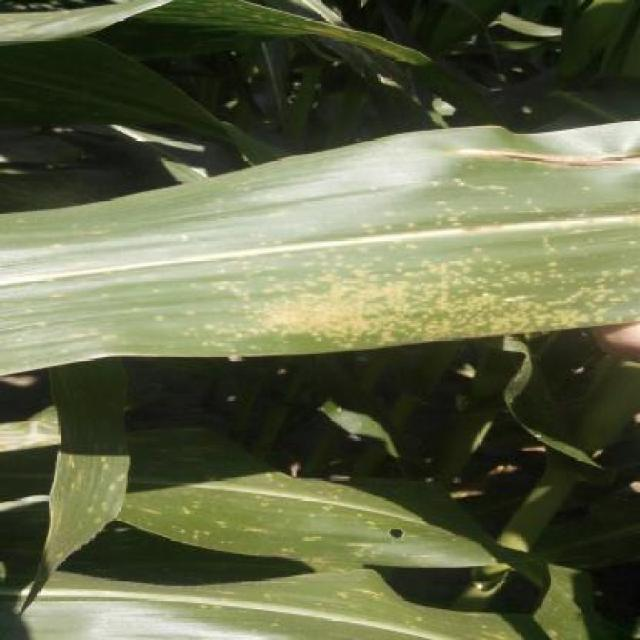Corn_Rust: (31, 104, 640, 373)
